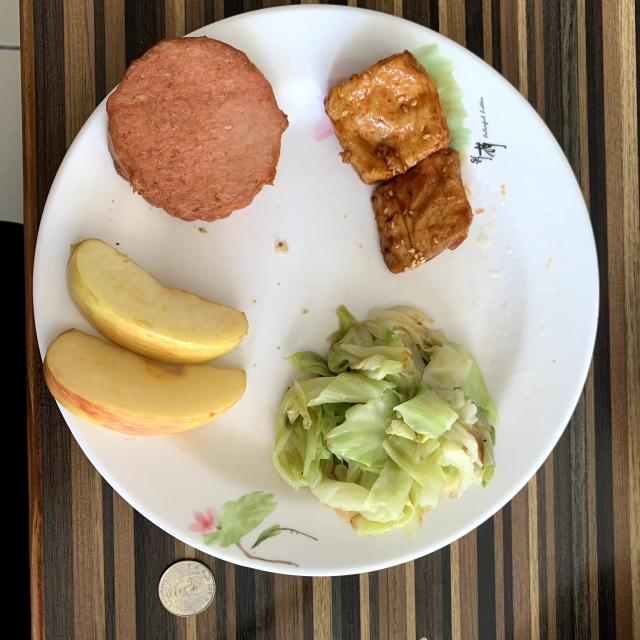Spam: (106, 36, 289, 221)
apple -sliced-: (44, 239, 249, 435)
cabbage: (272, 306, 499, 535)
coin: (159, 560, 215, 616)
creamy tofu: (325, 50, 472, 274)
